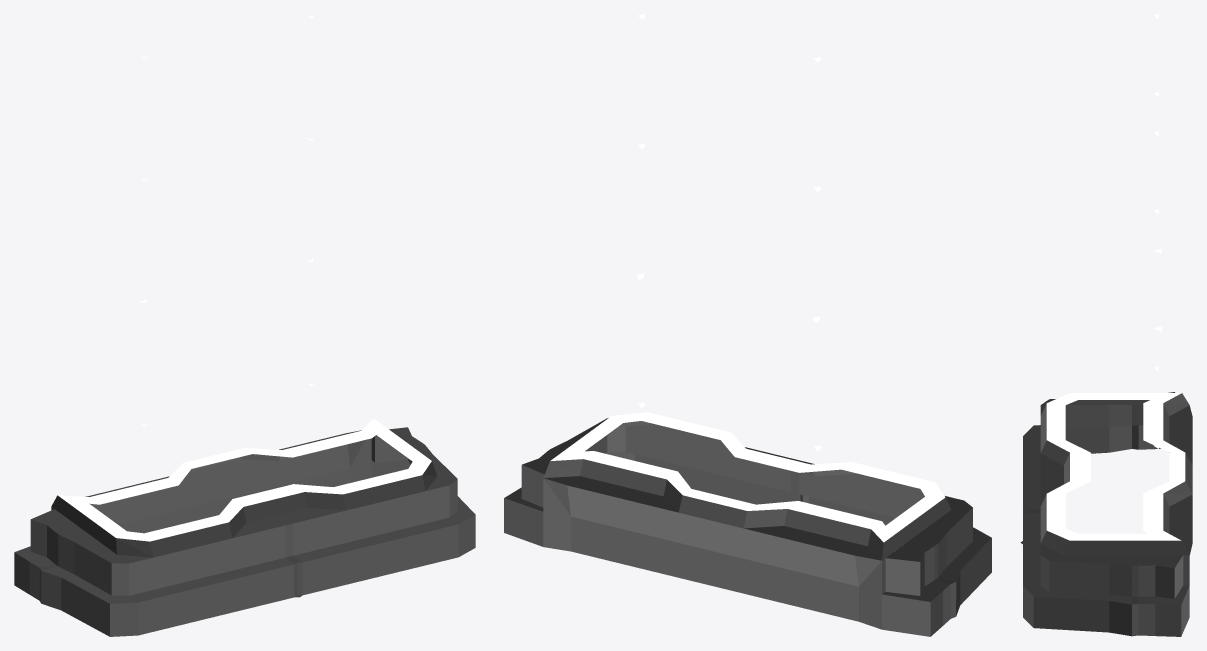
3 renders of one model, left to right at view 1: azimuth 30°, elevation 25°; view 2: azimuth 150°, elevation 25°; view 3: azimuth 270°, elevation 25°, orthographic. The views are drawn at different scales.
Parts seen in each view (by area): view 1: group_13, group_25; view 2: group_13, group_25; view 3: group_13, group_25.
Part boxes in pixels (x1=…): group_13: x1=14, y1=427, x2=475, y2=636; group_25: x1=58, y1=14, x2=431, y2=541; group_13: x1=504, y1=418, x2=991, y2=636; group_25: x1=550, y1=14, x2=945, y2=542; group_13: x1=1020, y1=392, x2=1192, y2=636; group_25: x1=1046, y1=14, x2=1185, y2=540.
Size of the model in its own units: 13454 by 16231 by 5187.
Materials: 2 (2 with a texture image).
